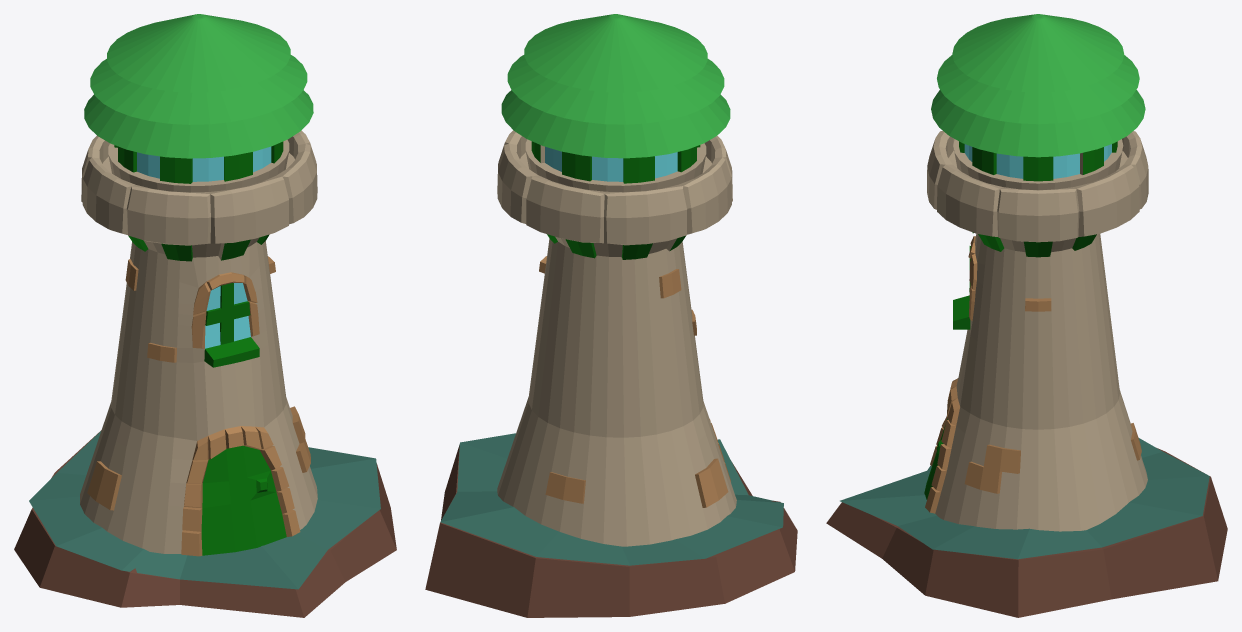
File: kale_toprak.fbx
The picture shows the model from 3 angles, left to right: view 1: azimuth 30°, elevation 25°; view 2: azimuth 150°, elevation 25°; view 3: azimuth 270°, elevation 25°; orthographic projection. The views are drawn at different scales.
Parts seen in each view (by area): view 1: Cylinder.009, cımen.008, Circle.009; view 2: Cylinder.009, Circle.009, cımen.008; view 3: Cylinder.009, Circle.009, cımen.008.
Boxes of the visible parts, bbox=[...] form: Cylinder.009: bbox=[80, 14, 317, 556]; cımen.008: bbox=[29, 431, 380, 589]; Circle.009: bbox=[14, 430, 396, 617]; Cylinder.009: bbox=[497, 14, 736, 546]; Circle.009: bbox=[425, 445, 797, 617]; cımen.008: bbox=[440, 433, 783, 565]; Cylinder.009: bbox=[924, 14, 1148, 531]; Circle.009: bbox=[826, 448, 1227, 617]; cımen.008: bbox=[840, 438, 1209, 559].
Bounding box in the file's own units: 488 × 705 × 496.
